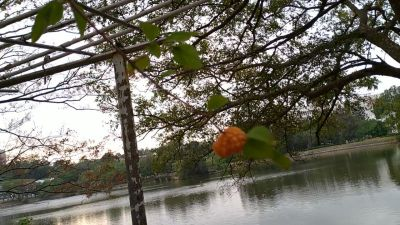eggs: (212, 126, 247, 158)
